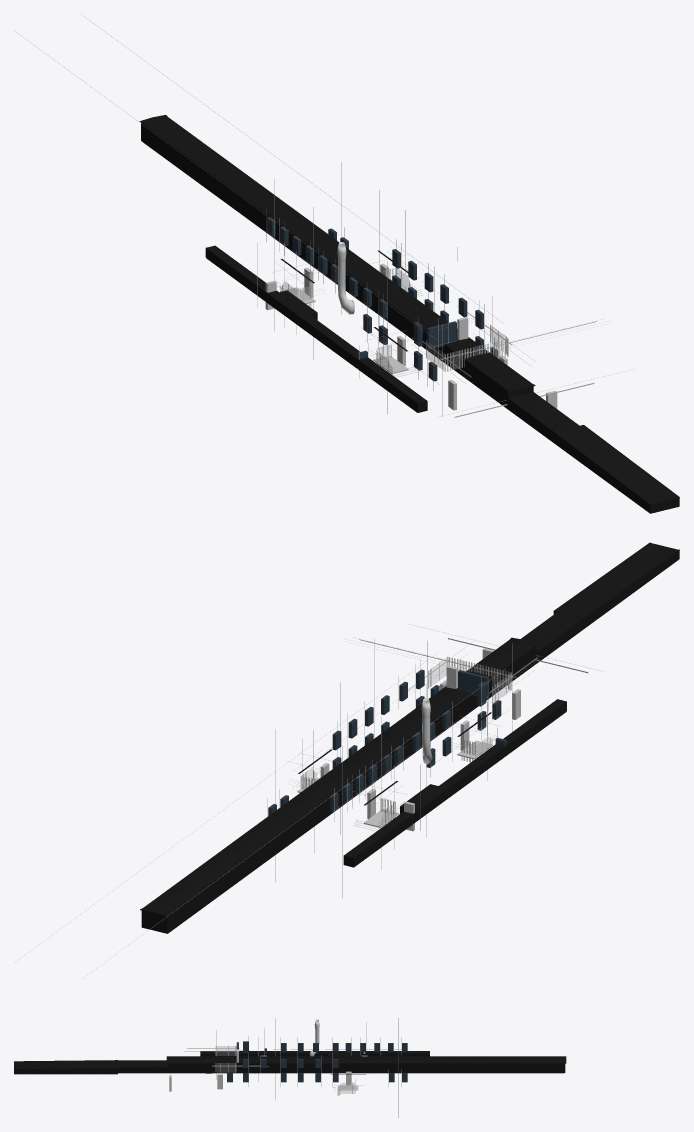
The model's file is enbg_house.gltf.
The picture shows the model from 3 angles, top to bottom: view 1: azimuth 30°, elevation 25°; view 2: azimuth 150°, elevation 25°; view 3: azimuth 270°, elevation 25°; orthographic projection. The views are drawn at different scales.
Visible parts, largest first — view 1: Main_house, Connecting_house; view 2: Main_house, Connecting_house; view 3: Main_house, Connecting_house.
Boxes of the visible parts, x1,y1,x2,y2 form: Main_house: [139, 115, 679, 513]; Connecting_house: [205, 245, 427, 412]; Main_house: [140, 542, 679, 933]; Connecting_house: [343, 699, 566, 867]; Main_house: [14, 1056, 566, 1074]; Connecting_house: [200, 1051, 429, 1056].
Size of the model in its own units: 24.78 by 18.57 by 121.
